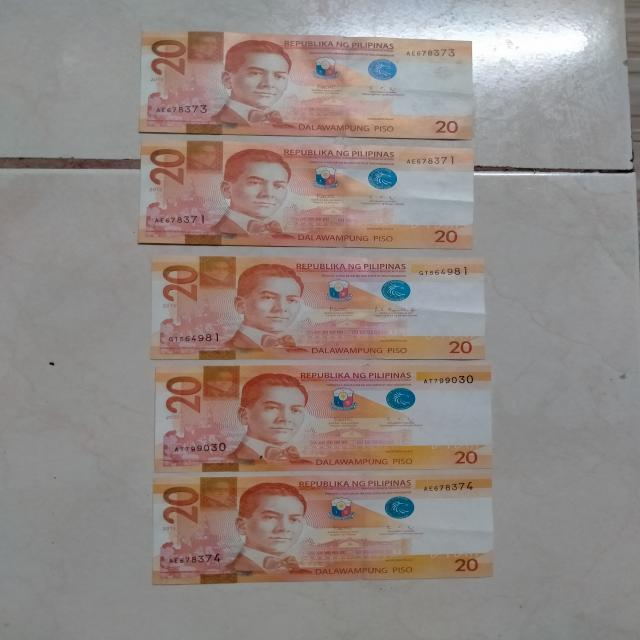concealed_value: (191, 254, 240, 290), (204, 363, 244, 405)
see_through_mark: (406, 218, 462, 230)
serial_number: (169, 438, 235, 457), (164, 328, 222, 348), (419, 371, 481, 389), (422, 477, 478, 494), (403, 46, 457, 61)
value: (143, 143, 186, 193), (160, 262, 203, 310)
value_watermark: (464, 306, 479, 324)
watermark: (412, 271, 474, 334), (415, 380, 473, 440)
